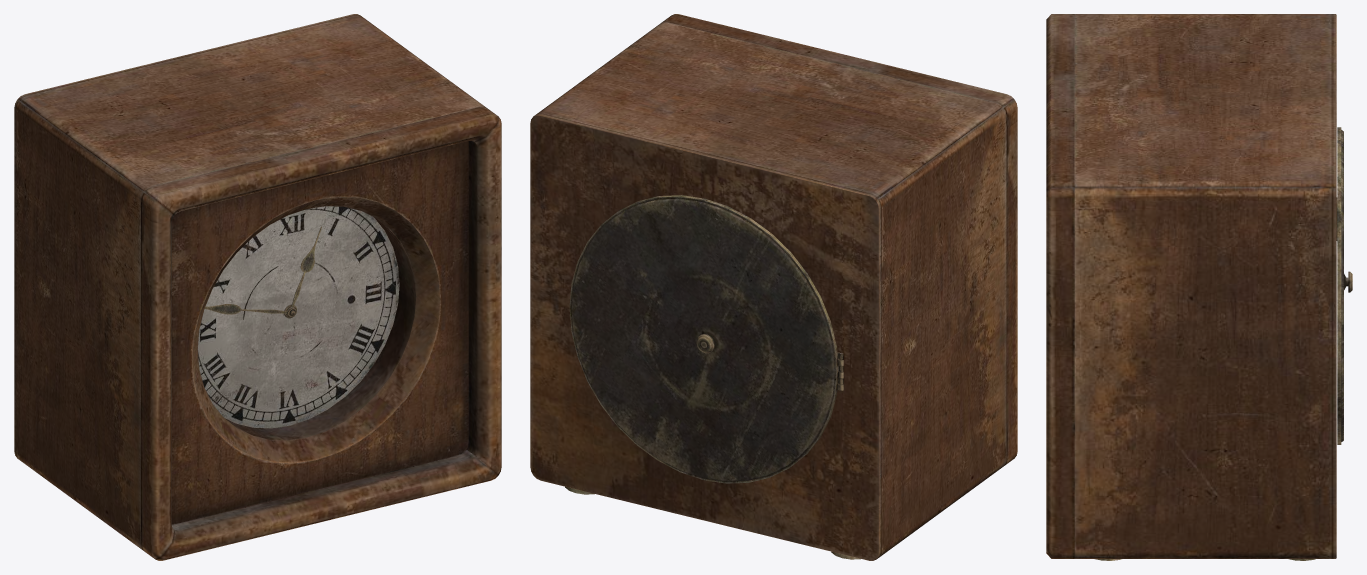
File: small.obj
3 renders of one model, left to right at view 1: azimuth 30°, elevation 25°; view 2: azimuth 150°, elevation 25°; view 3: azimuth 270°, elevation 25°, orthographic. The views are drawn at different scales.
Visible parts, largest first — view 1: Antique_Square_Mantel_Clock_Type_B_Extra_Worn; view 2: Antique_Square_Mantel_Clock_Type_B_Extra_Worn; view 3: Antique_Square_Mantel_Clock_Type_B_Extra_Worn.
Boxes of the visible parts, left/top/right/bottom form: Antique_Square_Mantel_Clock_Type_B_Extra_Worn: left=14, top=14, right=501, bottom=560; Antique_Square_Mantel_Clock_Type_B_Extra_Worn: left=530, top=14, right=1017, bottom=560; Antique_Square_Mantel_Clock_Type_B_Extra_Worn: left=1046, top=14, right=1352, bottom=560.
Bounding box in the file's own units: 0.1 × 0.1022 × 0.0736.
